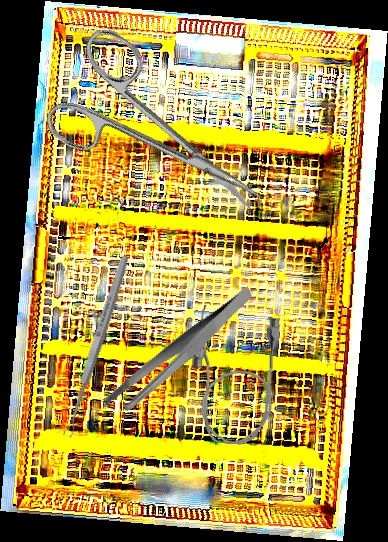Cannula: (186, 304, 281, 447)
Dressing Forceps: (86, 286, 274, 418)
Iris Scissors: (30, 21, 291, 257)
Surgical Spoon: (61, 254, 131, 439)
